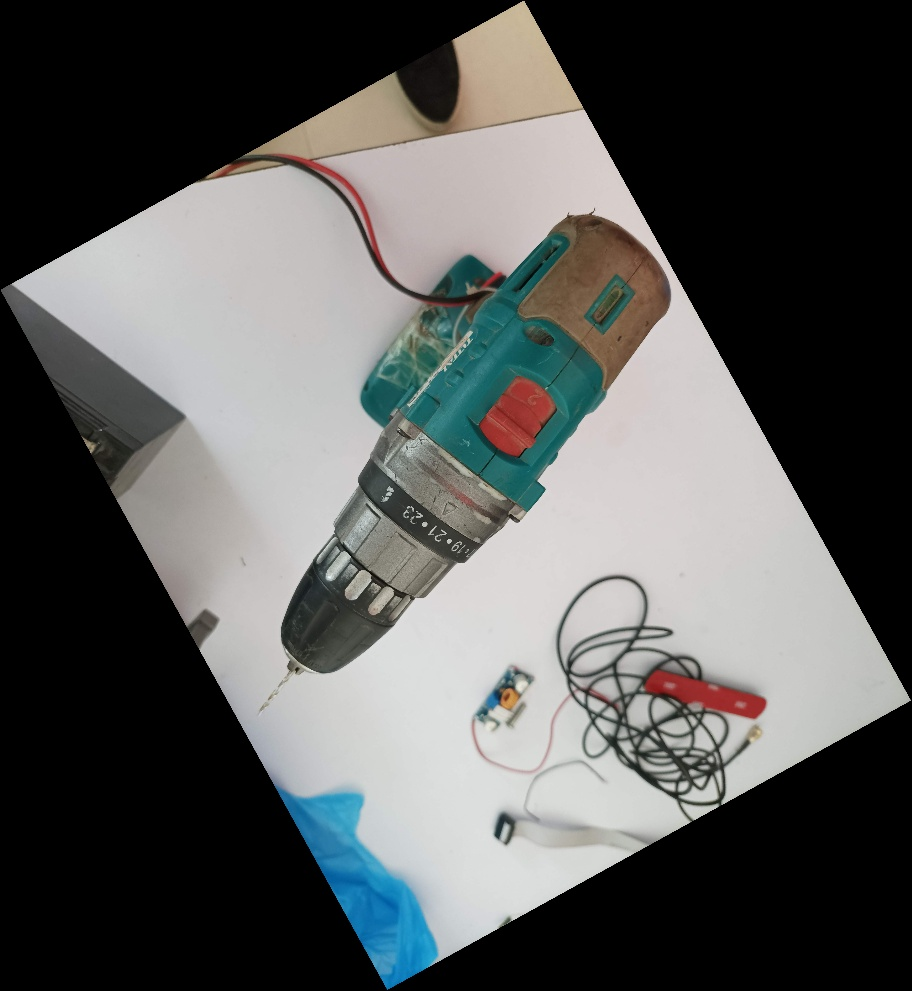driller: (253, 203, 673, 717)
